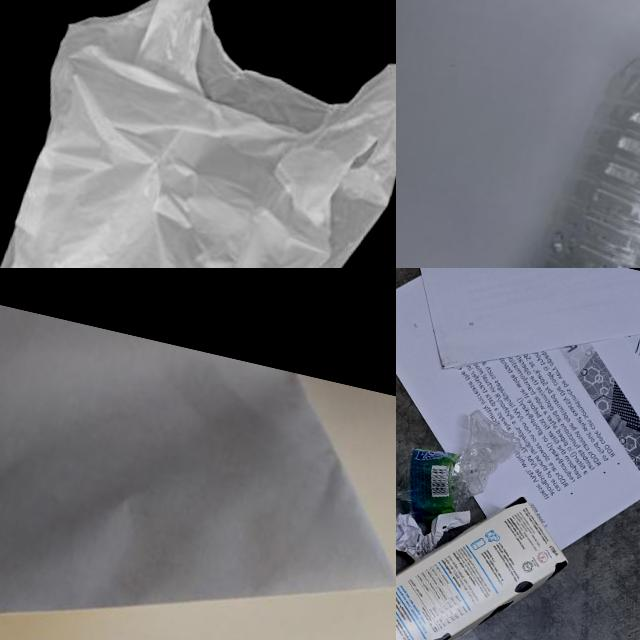caixinha: (396, 460, 578, 640)
garrafa plástica: (459, 25, 640, 268), (396, 391, 524, 535)
papel: (0, 271, 396, 640), (396, 268, 640, 571), (396, 493, 471, 570)
sacola plástica: (0, 0, 396, 268)
